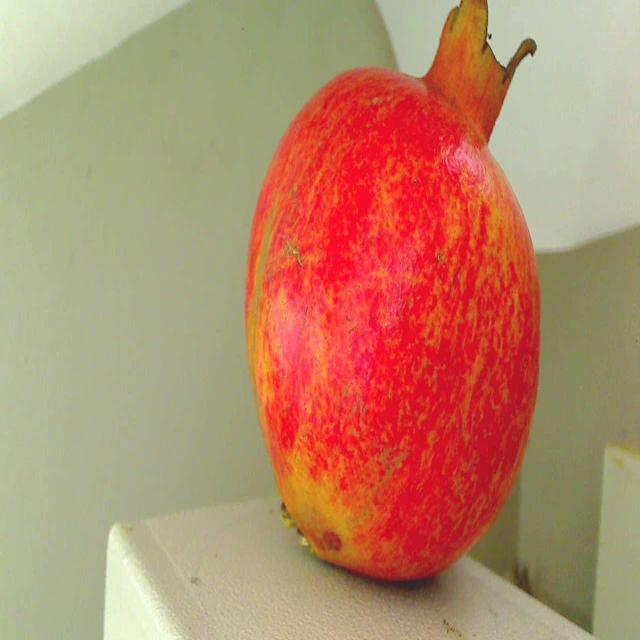pomegranate: (238, 0, 557, 593)
